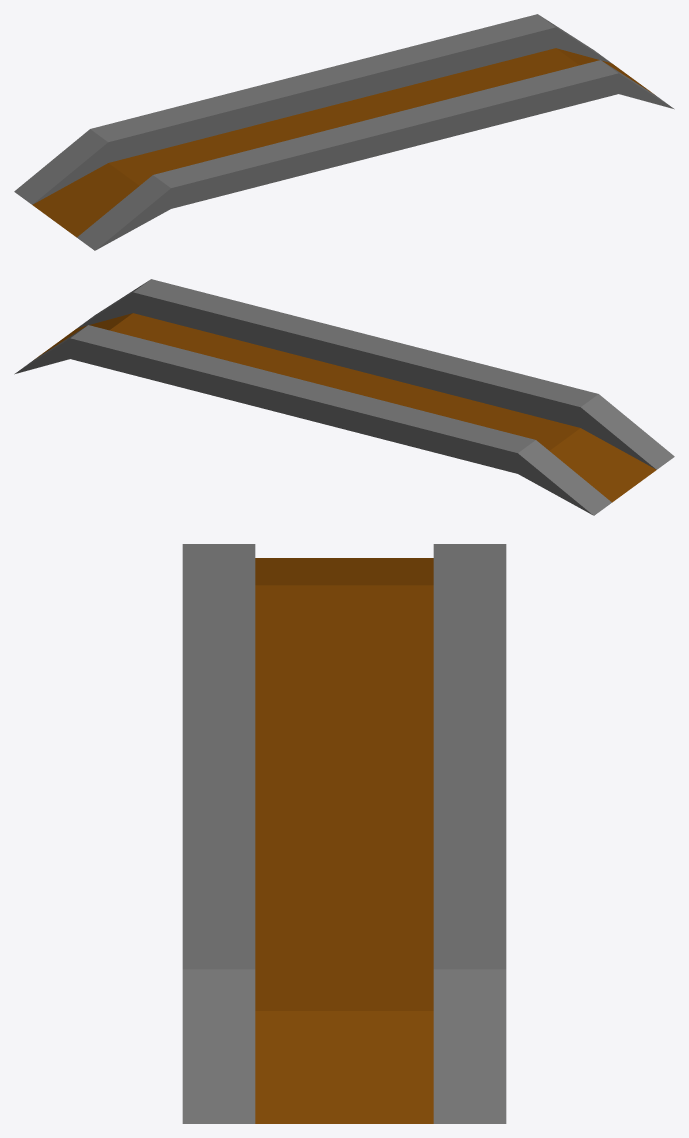
The model's file is Bridge.fbx.
The picture shows the model from 3 angles, top to bottom: view 1: azimuth 30°, elevation 25°; view 2: azimuth 150°, elevation 25°; view 3: azimuth 270°, elevation 25°; orthographic projection. The views are drawn at different scales.
Visible parts, largest first — view 1: Plane.002; view 2: Plane.002; view 3: Plane.002.
Boxes of the visible parts, left/top/right/bottom form: Plane.002: left=14, top=14, right=674, bottom=250; Plane.002: left=14, top=279, right=674, bottom=515; Plane.002: left=182, top=544, right=506, bottom=1123.
Bounding box in the file's own units: 1500 × 123 × 363.
